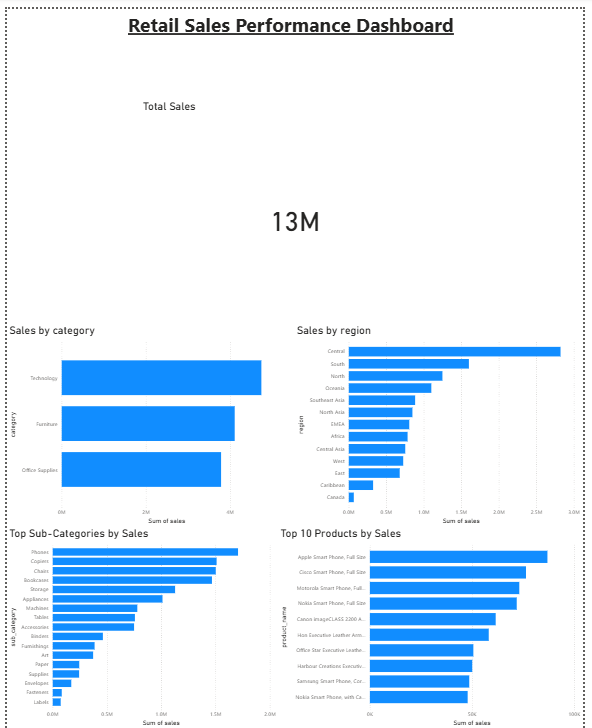

The page's visual inventory and layout, read from the dashboard file:
{"tool":"powerbi","page":{"name":"Page 1","canvas":[1280,1600],"ordinal":0},"visuals":[{"type":"card","title":"Total Sales","fields":{"Values":["Sum(SuperStoreOrders.sales)"]},"box":[297.1,202.9,685.7,497.1],"z":0},{"type":"clusteredBarChart","title":"Sales by category","fields":{"Category":["SuperStoreOrders.category"],"Y":["Sum(SuperStoreOrders.sales)"]},"box":[0,700,603.3,450],"z":1000},{"type":"clusteredBarChart","title":"Sales by region","fields":{"Category":["SuperStoreOrders.region"],"Y":["Sum(SuperStoreOrders.sales)"]},"box":[640,700,640,450],"z":2000},{"type":"clusteredBarChart","title":"Top Sub-Categories by Sales","fields":{"Category":["SuperStoreOrders.sub_category"],"Y":["Sum(SuperStoreOrders.sales)"]},"box":[0,1150,603.3,450],"z":3000},{"type":"clusteredBarChart","title":"Top 10 Products by Sales","fields":{"Category":["SuperStoreOrders.product_name"],"Y":["Sum(SuperStoreOrders.sales)"]},"box":[603.3,1150,676.7,450],"z":4000},{"type":"textbox","box":[262.9,0,760,74.3],"z":4002}]}

Visuals, with their boxes in screenshot pixels (x1, y1, x2, y2), scaled from the page's 1280x1600 canvas onto the 592x728 screenshot:
"Total Sales" card: x1=137, y1=92, x2=455, y2=318
"Sales by category" clusteredBarChart: x1=0, y1=318, x2=279, y2=523
"Sales by region" clusteredBarChart: x1=296, y1=318, x2=591, y2=523
"Top Sub-Categories by Sales" clusteredBarChart: x1=0, y1=523, x2=279, y2=727
"Top 10 Products by Sales" clusteredBarChart: x1=279, y1=523, x2=591, y2=727
textbox: x1=122, y1=0, x2=473, y2=34
